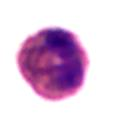monocyte: (11, 23, 93, 103)
